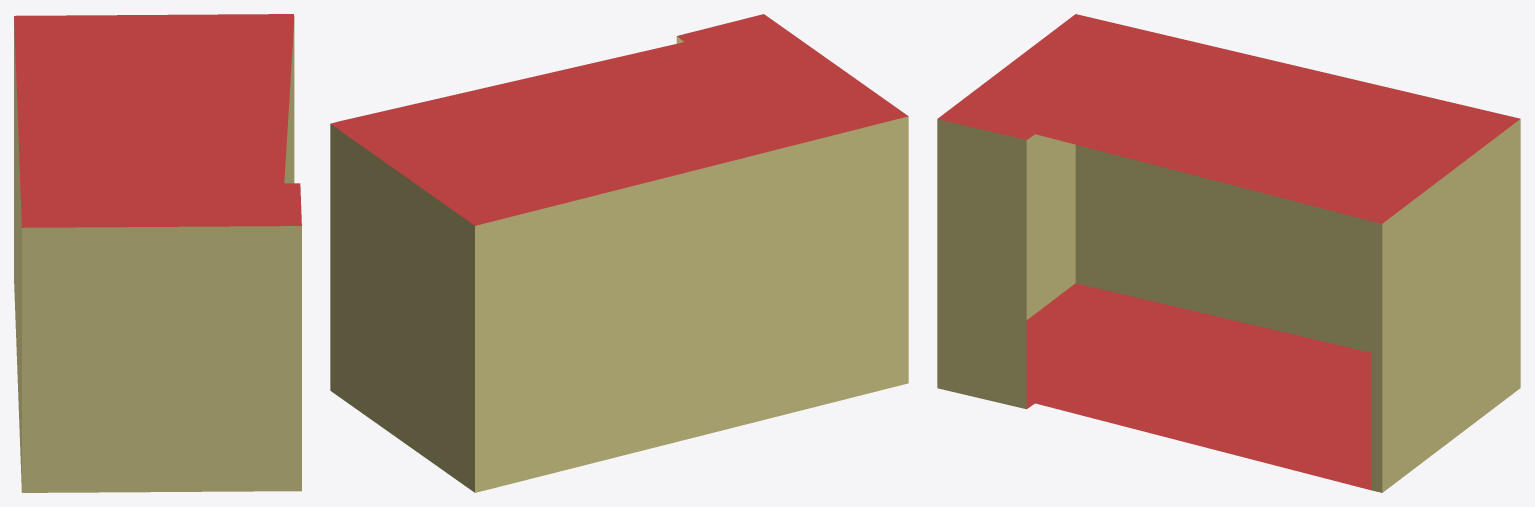
The picture shows the model from 3 angles, left to right: view 1: azimuth 30°, elevation 25°; view 2: azimuth 150°, elevation 25°; view 3: azimuth 270°, elevation 25°; orthographic projection.
Parts seen in each view (by area): view 1: group_4, group_3; view 2: group_4, group_3; view 3: group_4, group_3, group_5.
Part boxes in pixels (<box>): group_4: <box>14,18,301,492</box>; group_3: <box>14,14,301,227</box>; group_4: <box>330,36,908,492</box>; group_3: <box>331,14,908,225</box>; group_4: <box>937,119,1520,492</box>; group_3: <box>937,14,1520,223</box>; group_5: <box>1026,283,1371,490</box>.
Bounding box in the file's own units: 9.22 × 10.84 × 5.52.
